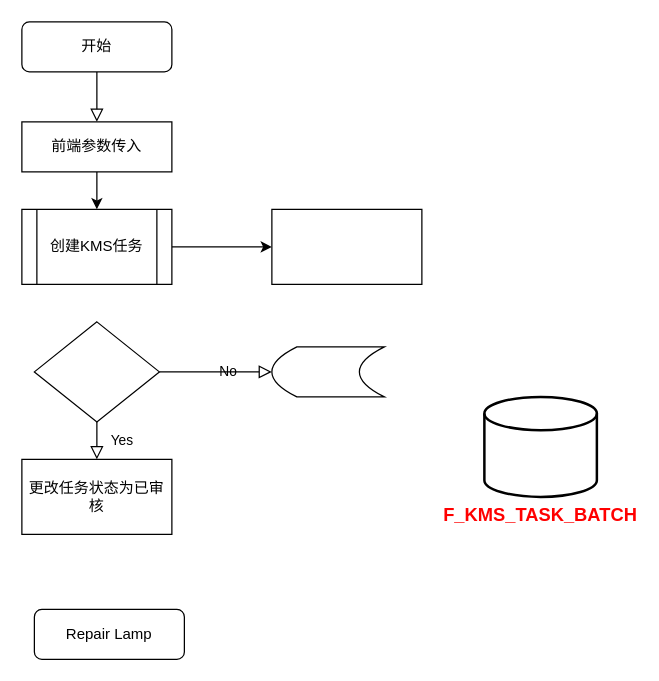
The diagram is 659 pixels wide and 681 high, and some of its shapes have lost their labels. Each missing label, with the box of its shape:
审核通过？: (33, 321, 159, 422)
批次更新秘钥任务表: (482, 395, 598, 498)
